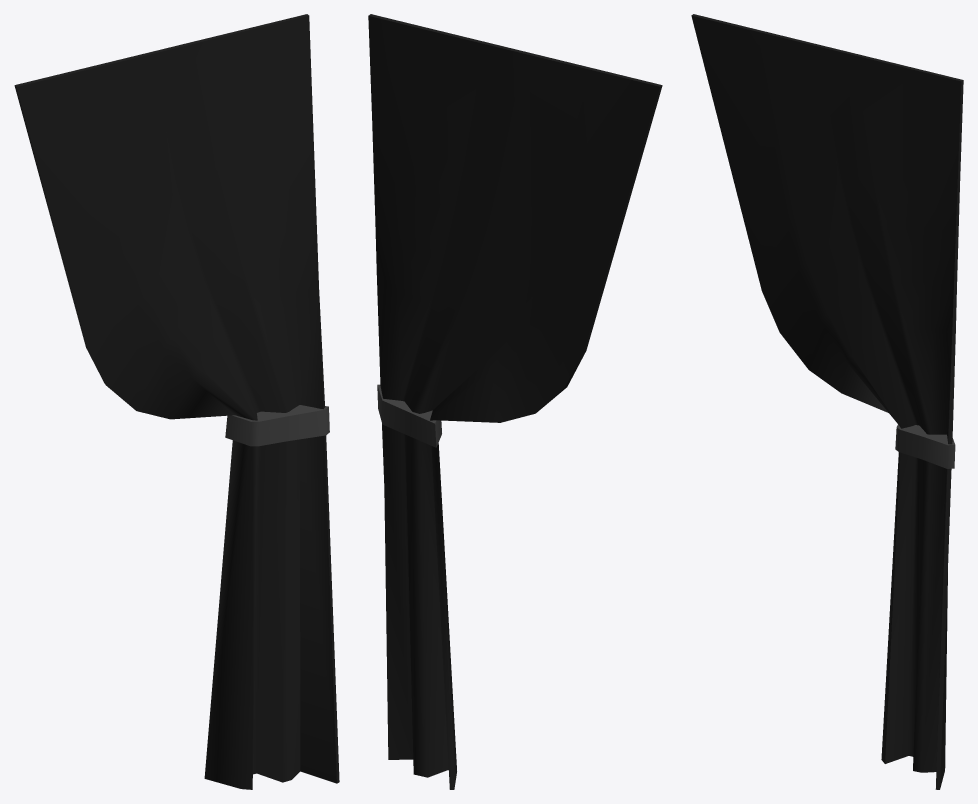
The model's file is Curtains_017.glb.
3 views of the same model, side by side, from view 1: azimuth 30°, elevation 25°; view 2: azimuth 150°, elevation 25°; view 3: azimuth 330°, elevation 25° (orthographic). The views are drawn at different scales.
Visible parts, largest first — view 1: Curtains_017; view 2: Curtains_017; view 3: Curtains_017.
Part boxes in pixels (box(x1,y1,x2,y2)): Curtains_017: box(14, 14, 339, 789); Curtains_017: box(368, 14, 662, 789); Curtains_017: box(691, 14, 963, 789).
Size of the model in its own units: 1.13 by 2.7 by 0.2558.
Materials: 1 (1 with a texture image).
